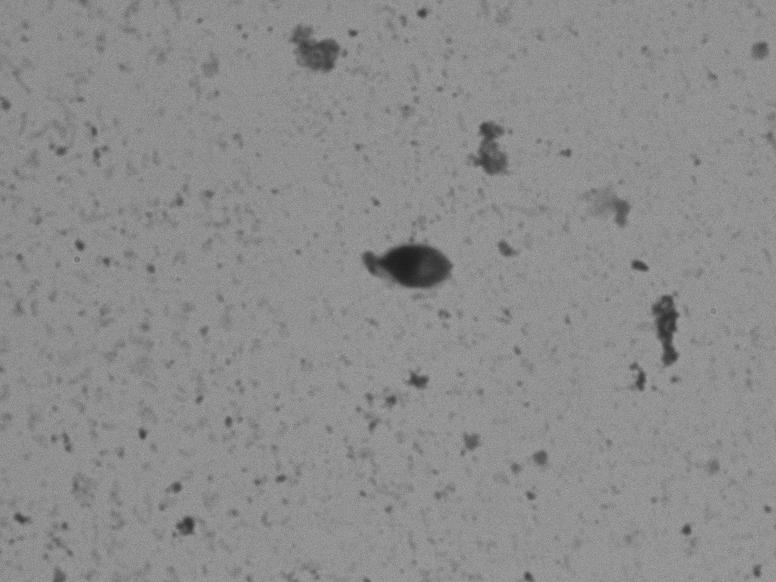Abnormal: (317, 184, 525, 341)
